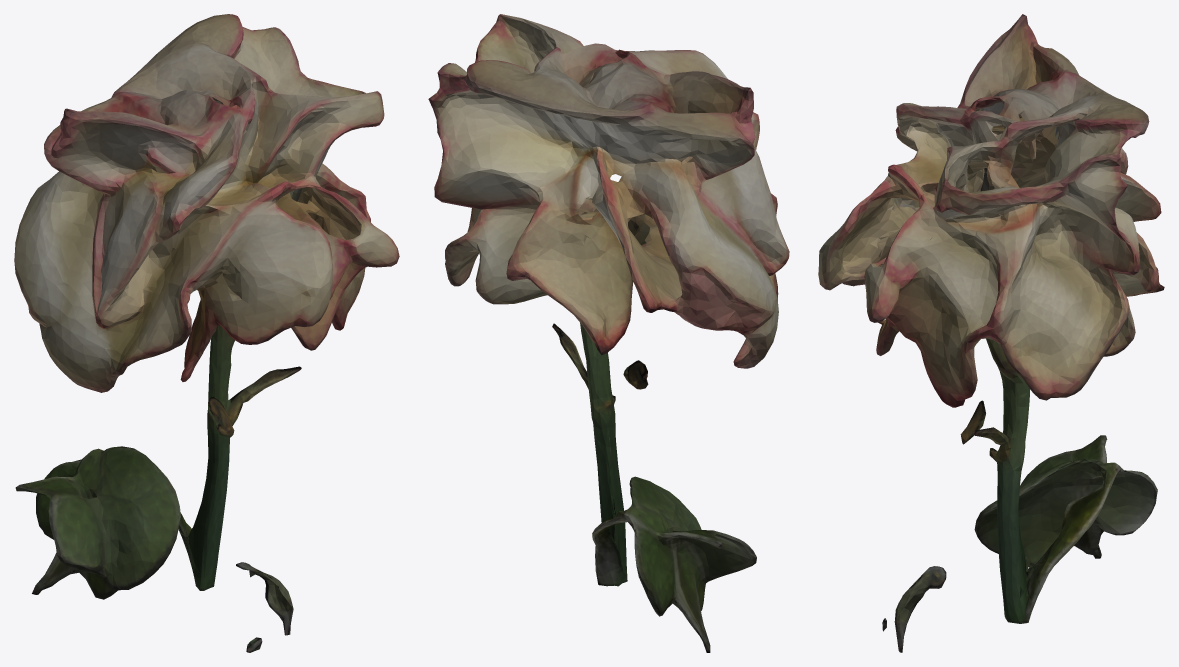
3 renders of one model, left to right at view 1: azimuth 30°, elevation 25°; view 2: azimuth 150°, elevation 25°; view 3: azimuth 270°, elevation 25°, orthographic. The views are drawn at different scales.
Parts seen in each view (by area): view 1: world; view 2: world; view 3: world.
Boxes of the visible parts, box(x1,y1,x2,y2) form: world: box(14, 14, 399, 652); world: box(428, 14, 789, 652); world: box(818, 14, 1164, 652).
Size of the model in its own units: 0.5932 by 0.9626 by 0.5395.
Materials: 1 (1 with a texture image).
